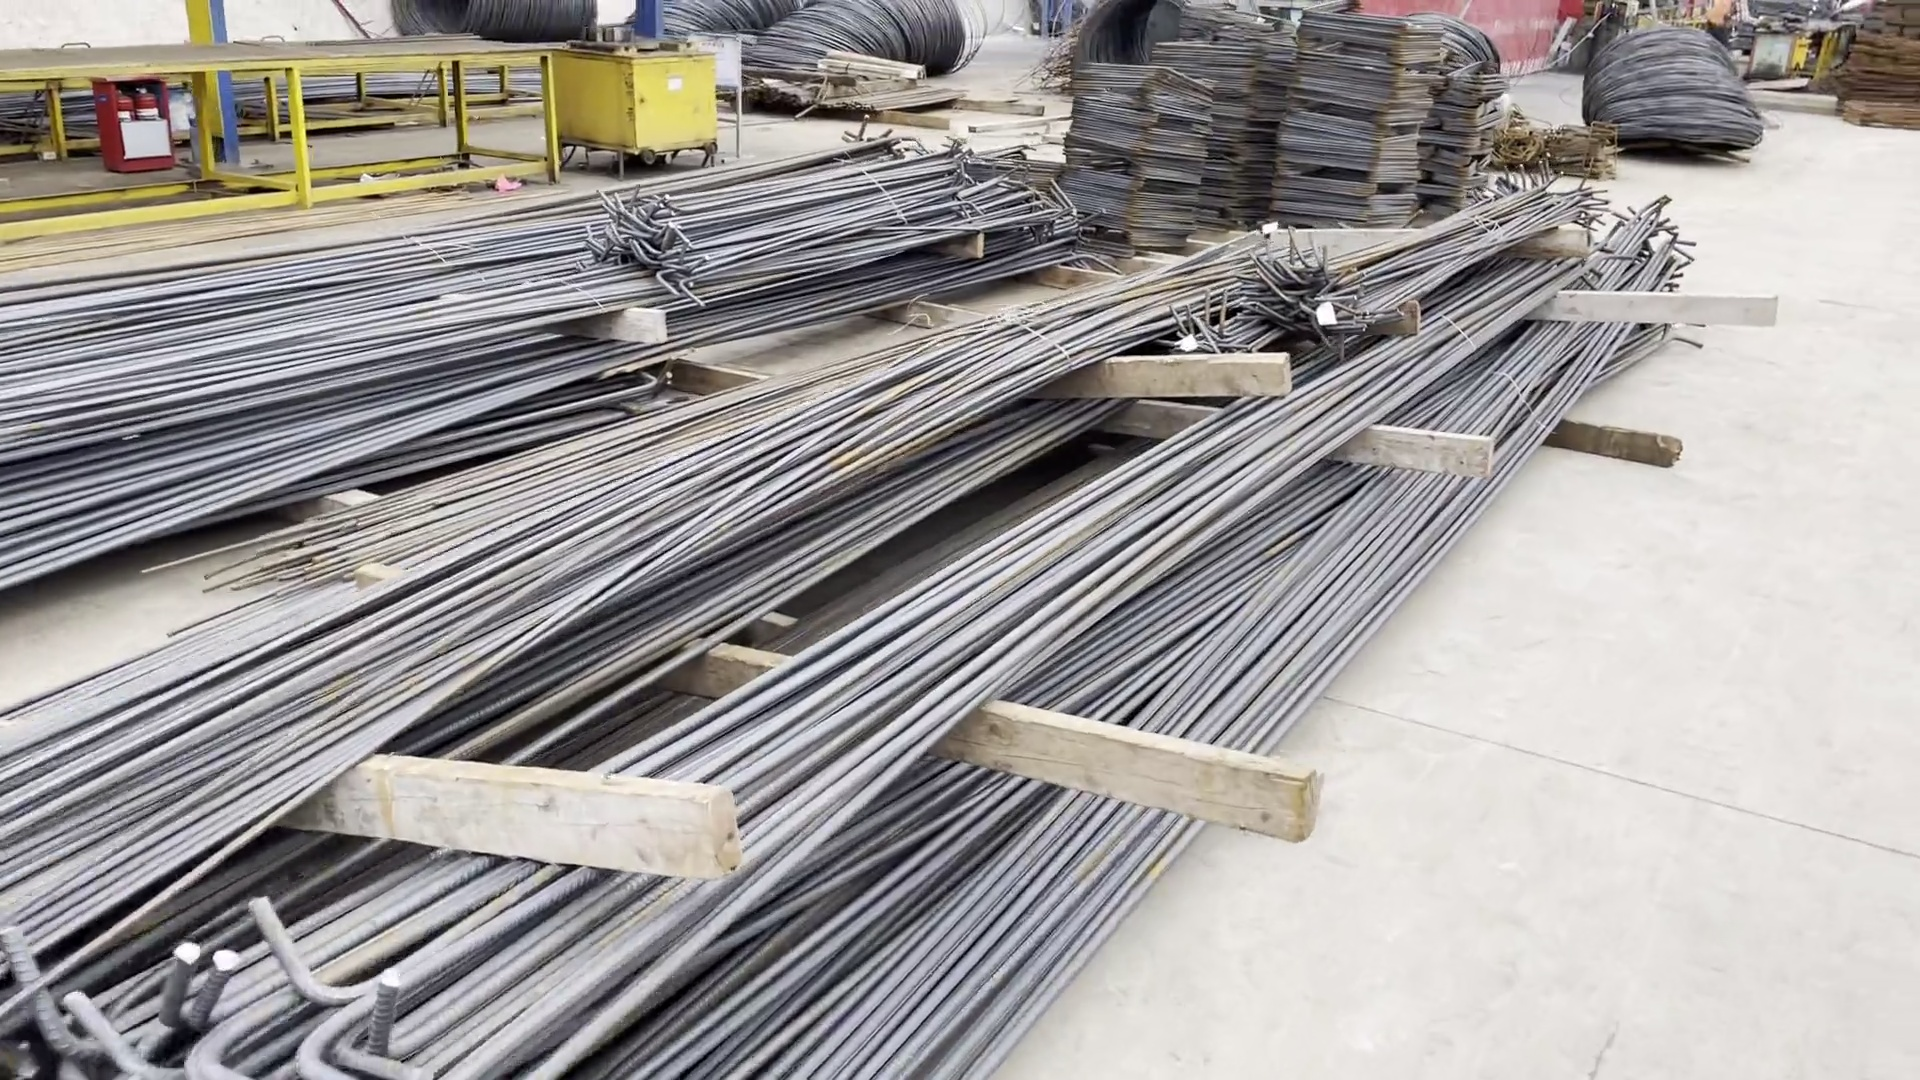rebar: (32, 142, 1726, 1080), (1, 90, 1122, 621)
